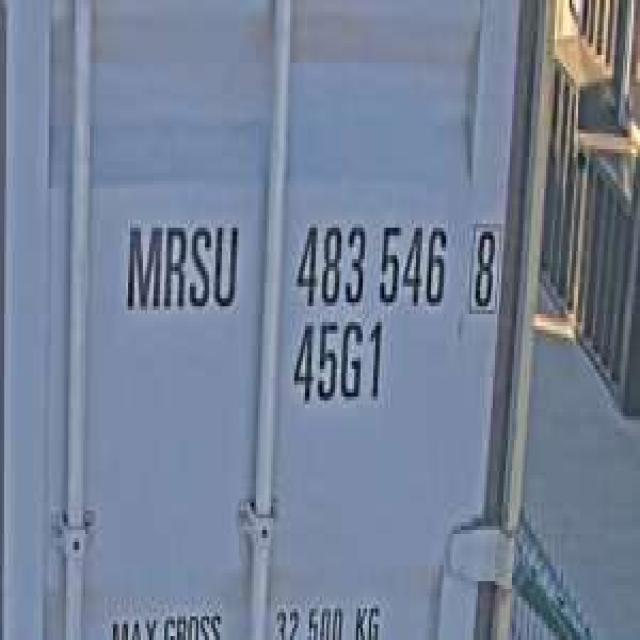dv: (466, 216, 505, 322)
owner: (120, 204, 243, 326)
serial: (290, 204, 452, 314)
size: (288, 314, 386, 412)
